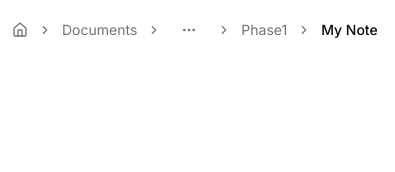
NoteBreadcrumb › Long path (with truncation) › shows hidden folders in dropdown when clicked
The width and height of the screenshot is (395, 172).
Check: the link "Documents" is shown, box top-left (62, 20), bottom-right (137, 40)
Click the button named "dossiers masqués" at (189, 30), box top-left (171, 12), bottom-right (207, 48)
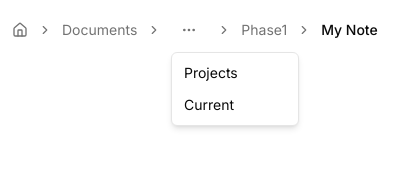
Check: the menu item "Projects" is shown, box top-left (184, 64), bottom-right (238, 81)
Check: the menu item "Current" is shown, box top-left (184, 96), bottom-right (234, 113)
